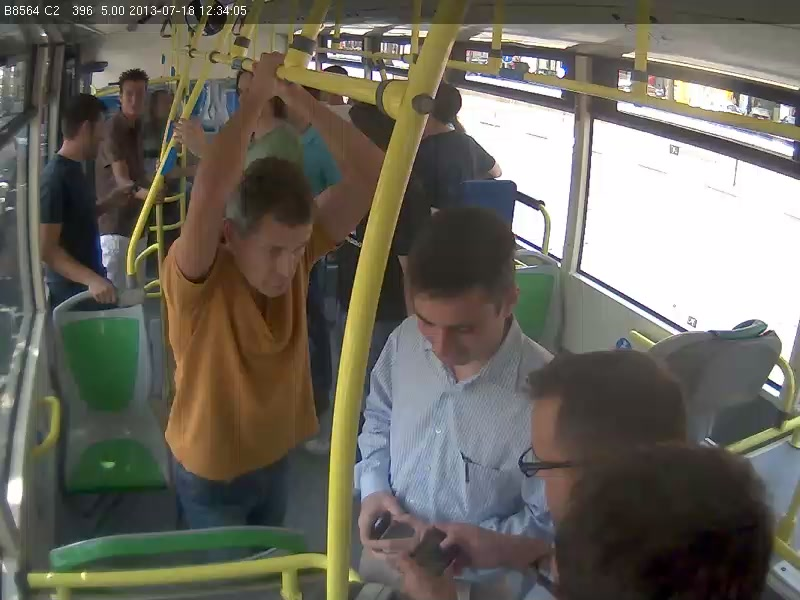Head: (533, 446, 780, 600), (516, 347, 694, 538), (399, 200, 526, 381), (227, 155, 320, 305), (58, 89, 113, 164), (232, 61, 287, 129), (429, 73, 468, 131), (112, 66, 152, 118)
